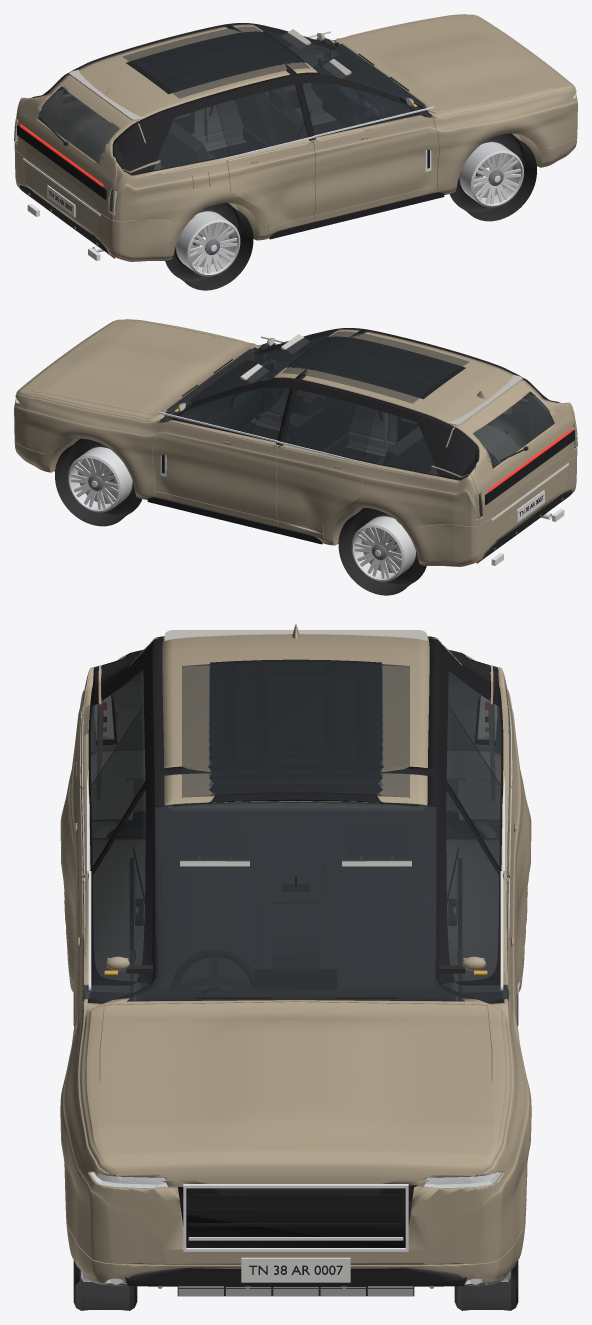
File: car_luxury.glb
The picture shows the model from 3 angles, top to bottom: view 1: azimuth 30°, elevation 25°; view 2: azimuth 150°, elevation 25°; view 3: azimuth 270°, elevation 25°; orthographic projection. The views are drawn at different scales.
Parts seen in each view (by area): view 1: Body, Glass_Glass, PanoRoof, Trim_BlackGloss, Glass_GlassTint, PanoFrame, WRR_Tyre, WFR_Tyre, Dash, WFR_Barrel, WRR_Barrel, SeatRear0Back (+11 smaller); view 2: Body, Glass_Glass, PanoRoof, Trim_BlackGloss, Glass_GlassTint, PanoFrame, WRL_Tyre, WFL_Tyre, Dash, WFL_Barrel, WRL_Barrel, SeatRear0Back (+13 smaller); view 3: Body, Glass_Glass, PanoRoof, Trim_BlackGloss, PanoFrame, SeatRear0Back, SeatPassengerBack, SeatDriverBack, Glass_GlassTint, Trim_BlackTrim, Headliner, SeatRear0Cushion (+18 smaller).
Boxes of the visible parts, x1,y1,x2,y2 form: Body: [14, 14, 577, 261]; Glass_Glass: [216, 23, 435, 155]; PanoRoof: [122, 26, 309, 98]; Trim_BlackGloss: [27, 23, 432, 175]; Glass_GlassTint: [37, 86, 229, 169]; PanoFrame: [126, 31, 306, 94]; WRR_Tyre: [165, 203, 253, 290]; WFR_Tyre: [449, 133, 536, 221]; Dash: [312, 56, 423, 124]; WFR_Barrel: [459, 142, 523, 207]; WRR_Barrel: [176, 211, 240, 276]; SeatRear0Back: [158, 122, 208, 167]; Body: [14, 319, 577, 566]; Glass_Glass: [156, 328, 375, 460]; PanoRoof: [282, 331, 469, 403]; Trim_BlackGloss: [159, 328, 564, 480]; Glass_GlassTint: [362, 391, 554, 474]; PanoFrame: [285, 336, 465, 399]; WRL_Tyre: [338, 508, 426, 595]; WFL_Tyre: [55, 438, 142, 526]; Dash: [168, 361, 279, 429]; WFL_Barrel: [68, 447, 132, 512]; WRL_Barrel: [351, 516, 415, 581]; SeatRear0Back: [383, 427, 433, 472]; Body: [60, 634, 531, 1284]; Glass_Glass: [82, 705, 509, 1006]; PanoRoof: [182, 661, 409, 797]; Trim_BlackGloss: [82, 636, 509, 1247]; PanoFrame: [174, 659, 417, 805]; SeatRear0Back: [156, 807, 435, 903]; SeatPassengerBack: [323, 867, 430, 988]; SeatDriverBack: [161, 867, 268, 984]; Glass_GlassTint: [90, 669, 501, 785]; Trim_BlackTrim: [90, 811, 501, 1286]; Headliner: [164, 630, 427, 810]; SeatRear0Cushion: [156, 903, 435, 958].
Bounding box in the file's own units: 4.98 × 1.81 × 2.15.
